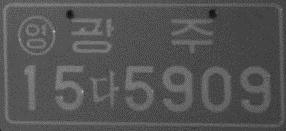0: (199, 66, 232, 114)
1: (14, 64, 46, 111)
5: (54, 64, 86, 112), (123, 64, 155, 112)
9: (161, 64, 194, 113), (239, 64, 271, 114)
광주_D: (69, 16, 214, 54)
다: (89, 68, 118, 109)
영: (16, 14, 55, 55)
